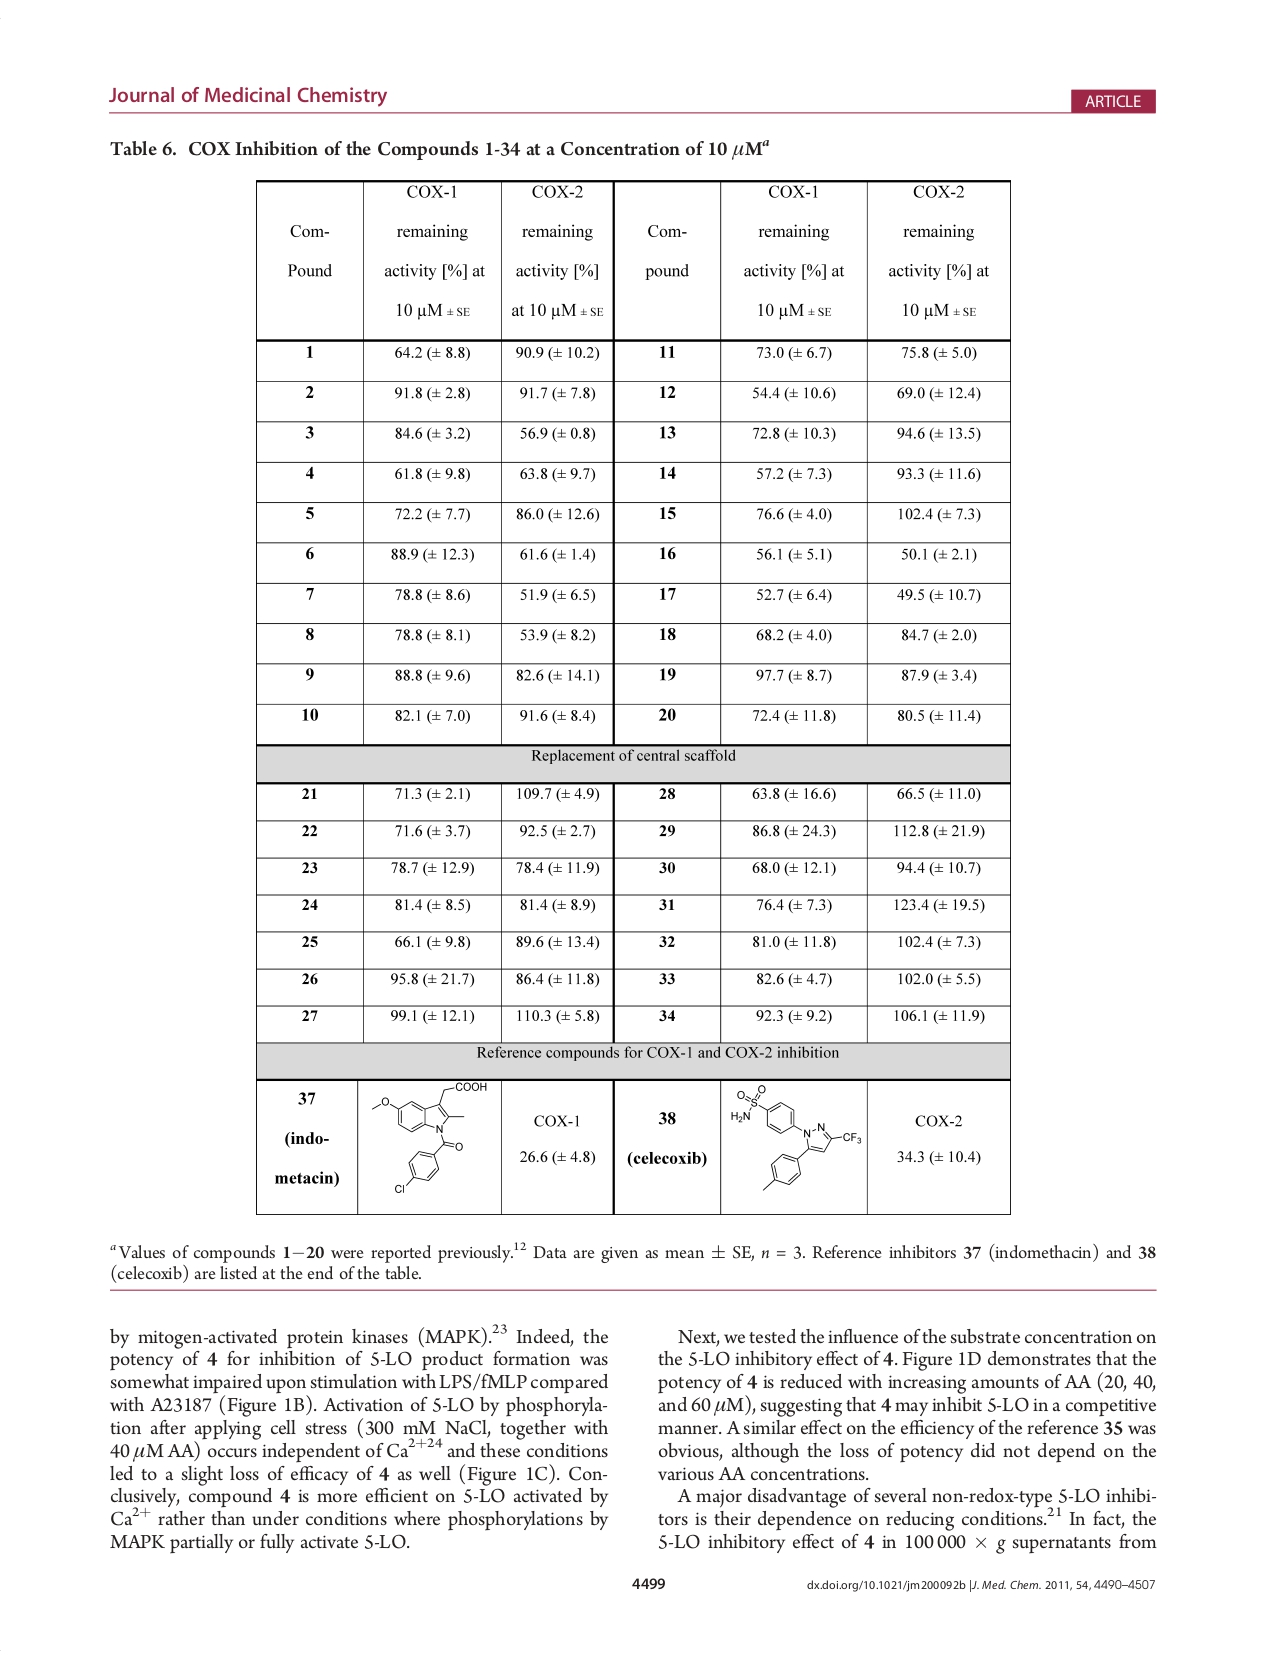exist_molecular: (729, 1084, 864, 1194), (368, 1081, 489, 1196)
